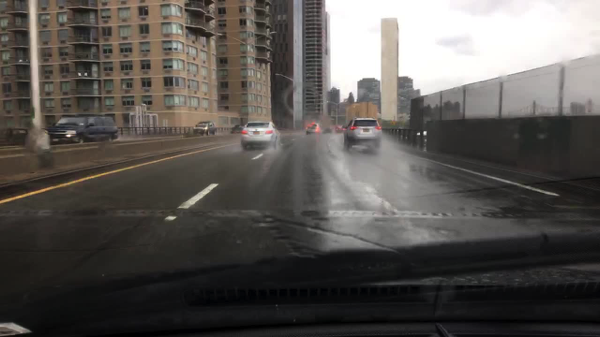car: (40, 114, 119, 146), (342, 118, 382, 150), (241, 122, 279, 150), (193, 120, 217, 136), (304, 122, 321, 135), (229, 125, 245, 134), (334, 123, 346, 132), (322, 128, 331, 133)
